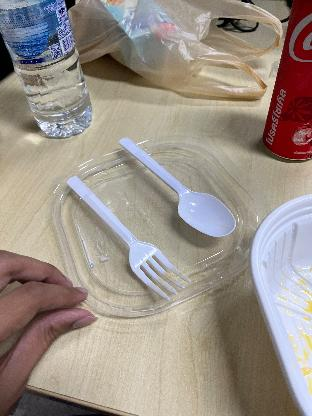Others: (60, 176, 194, 301), (114, 132, 236, 238)
Plastic Bottle: (0, 0, 102, 140)
